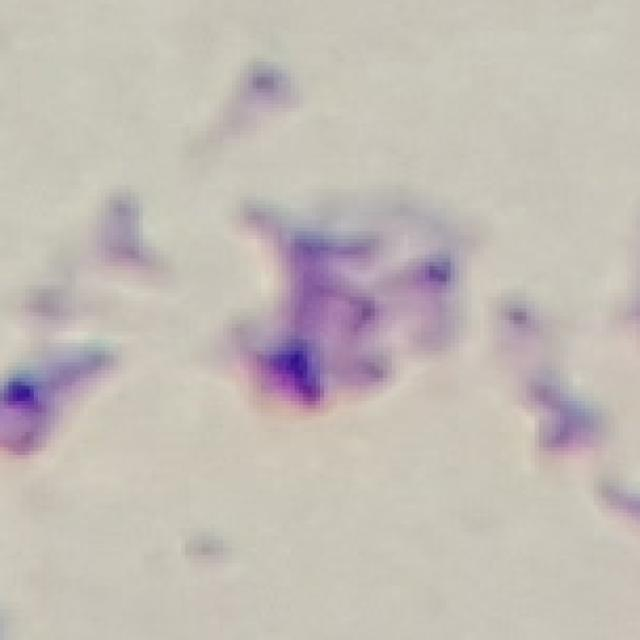non-sperm: (248, 213, 464, 412)
